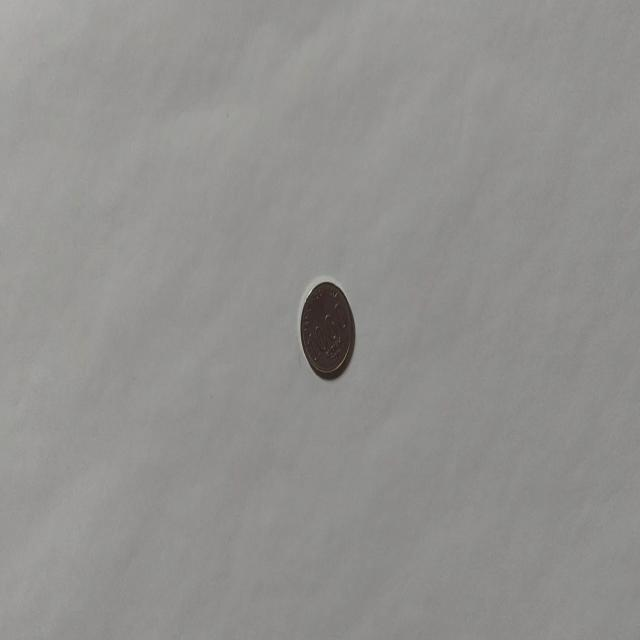seribu rupiah koin: (298, 276, 355, 379)
